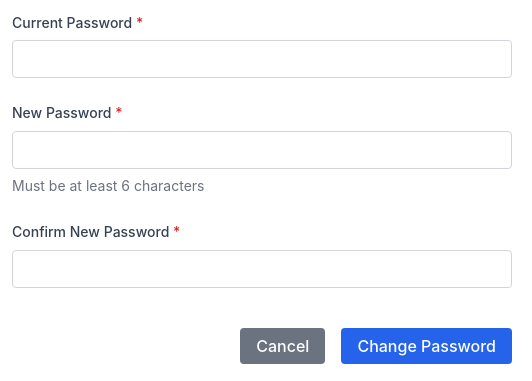
Test case: PasswordChangeForm - Real-time Validation › should display validation error when new password loses focus with empty value
# Focus and blur without entering value
Click the password field labelled "New Password" at (262, 150), box [12,131,512,169]
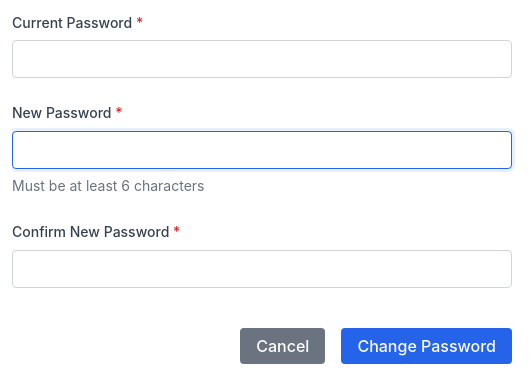
Press Tab
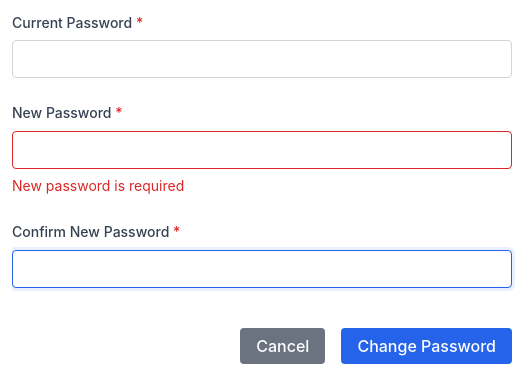
Expected: the text "New password is required" is shown, [12,177,184,194]
